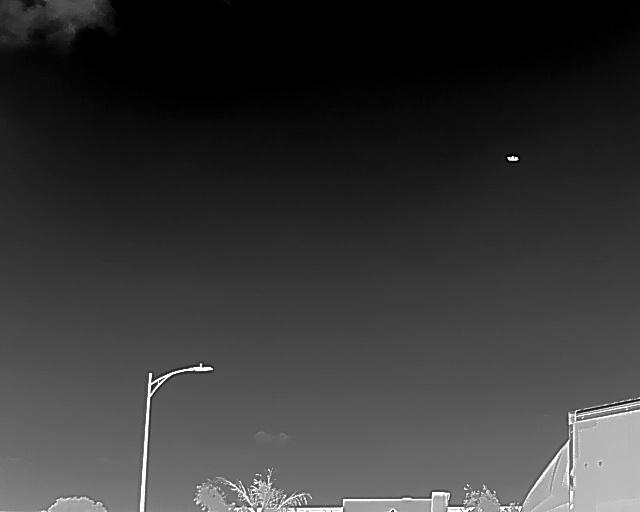fpv-drone: (505, 154, 519, 162)
